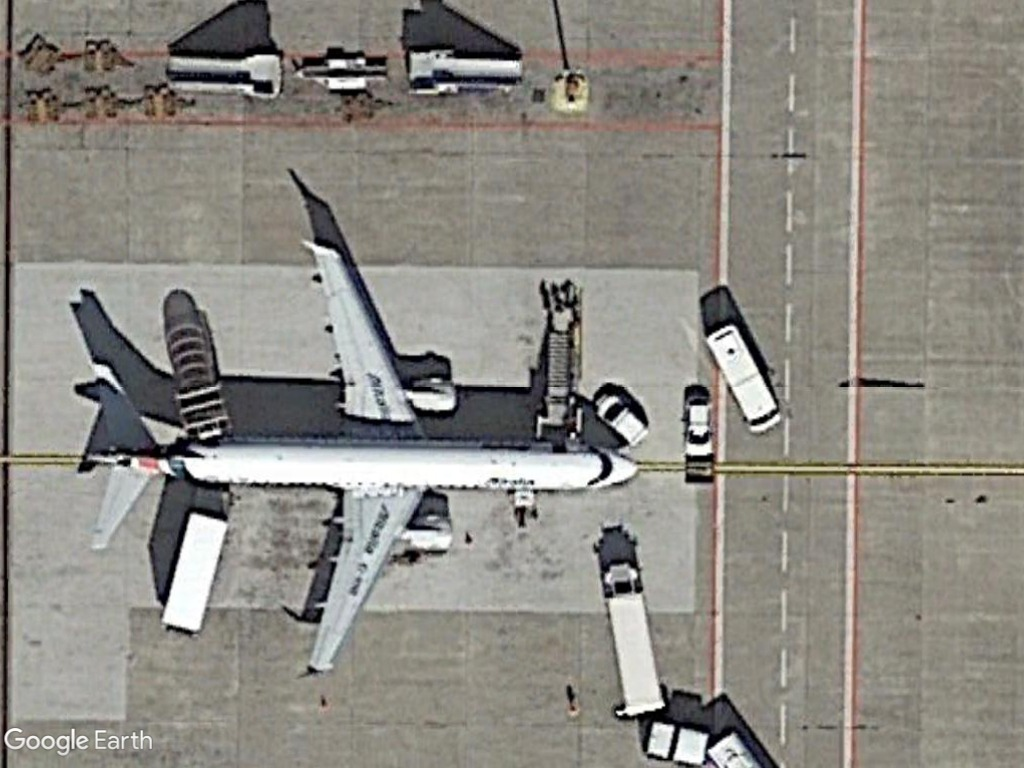airliner: (80, 225, 645, 676)
car: (683, 392, 717, 462)
longvehicle: (597, 551, 672, 722)
stairtruck: (161, 44, 285, 104), (528, 325, 589, 444), (403, 46, 531, 97)
van: (700, 320, 788, 435), (590, 390, 651, 448)
